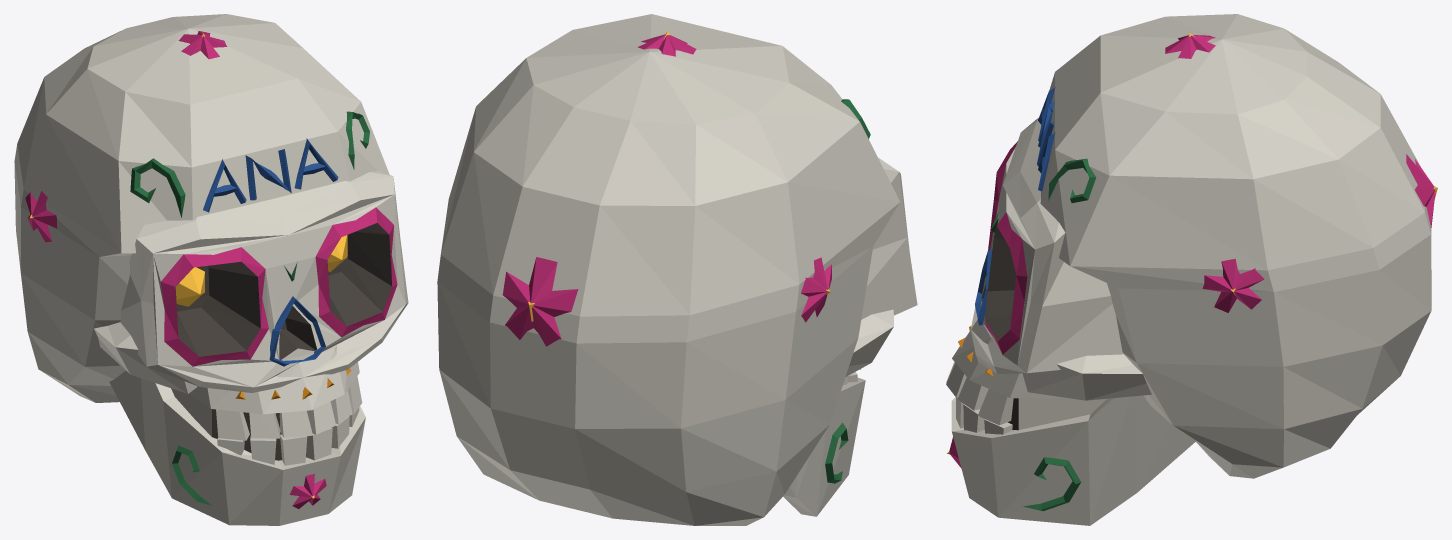
The model's file is sugar-skull-b5a8b0.glb.
3 views of the same model, side by side, from view 1: azimuth 30°, elevation 25°; view 2: azimuth 150°, elevation 25°; view 3: azimuth 270°, elevation 25° (orthographic). The views are drawn at different scales.
Parts seen in each view (by area): view 1: sugar-skull-body, sugar-skull-foil; view 2: sugar-skull-body; view 3: sugar-skull-body.
Part boxes in pixels (x1,y1,x2,y2): sugar-skull-body: [14, 14, 408, 525]; sugar-skull-foil: [30, 33, 347, 498]; sugar-skull-body: [437, 14, 917, 525]; sugar-skull-body: [946, 14, 1435, 525].
Bounding box in the file's own units: 0.1281 × 0.1644 × 0.1621.
